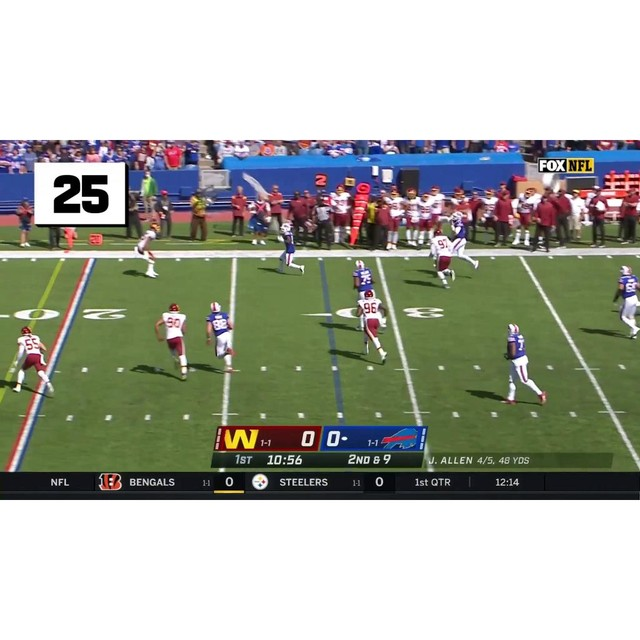american-football-player: (500, 323, 547, 405), (10, 326, 53, 396), (154, 303, 192, 380), (354, 288, 389, 364), (204, 302, 238, 372), (610, 266, 640, 339), (428, 229, 458, 290), (447, 214, 479, 271), (273, 222, 305, 275), (133, 223, 161, 278), (351, 260, 375, 308)
referee: (312, 197, 335, 250)
